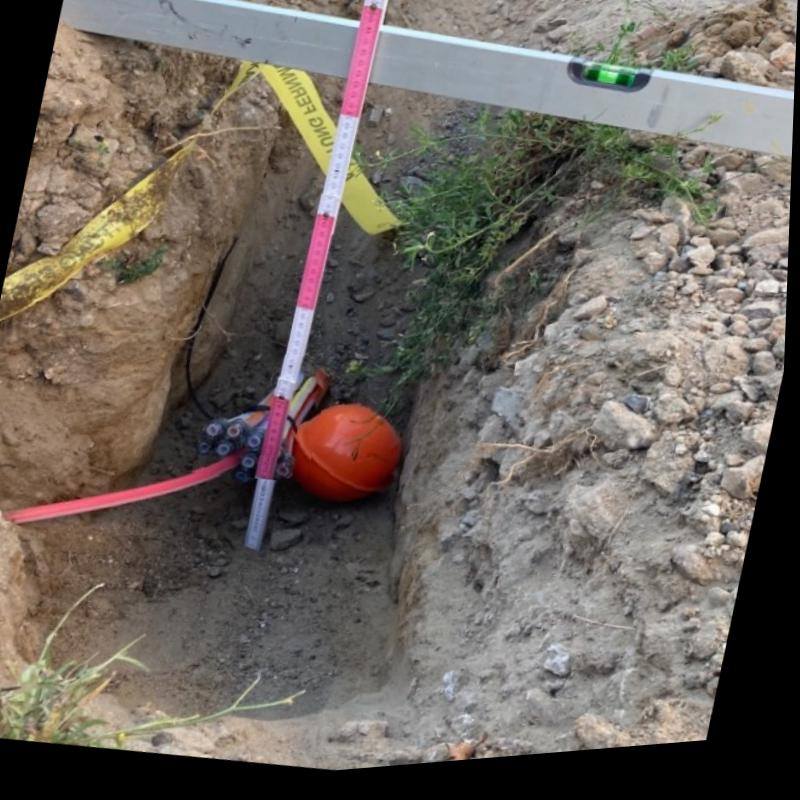Kugelmarker: (301, 410, 397, 503)
Orang-Speednetrohrchen: (203, 364, 333, 484)
